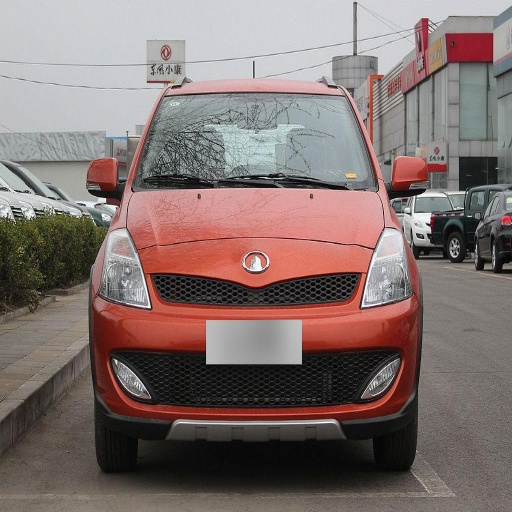front_bumper: (92, 267, 419, 435), (141, 238, 373, 267)
front_right_light: (95, 229, 150, 309)
hood: (124, 188, 386, 252), (258, 248, 367, 276), (149, 254, 250, 280)
left_mirror: (389, 156, 427, 198)
